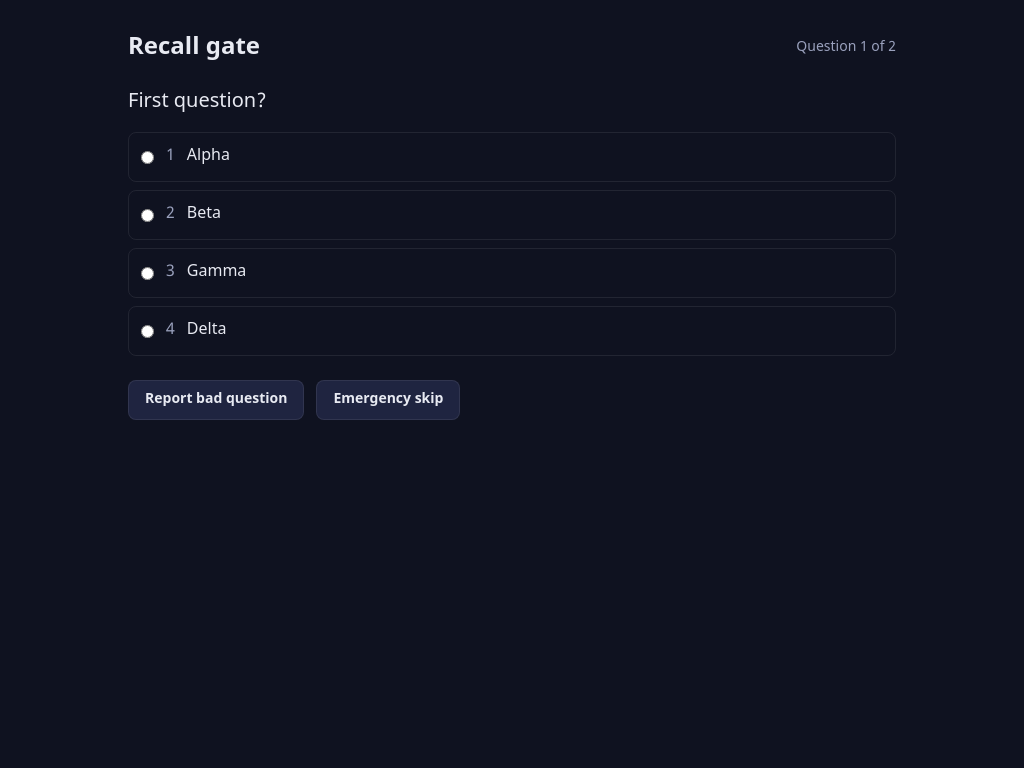
Test: GateView › confidence tags can be clicked and always pair colour with a letter
The width and height of the screenshot is (1024, 768).
Expected: the text "First question?" is shown, [128, 89, 266, 115]
Click the radio button labelled "2 Beta" at {"x": 148, "y": 215}, box [141, 208, 154, 222]
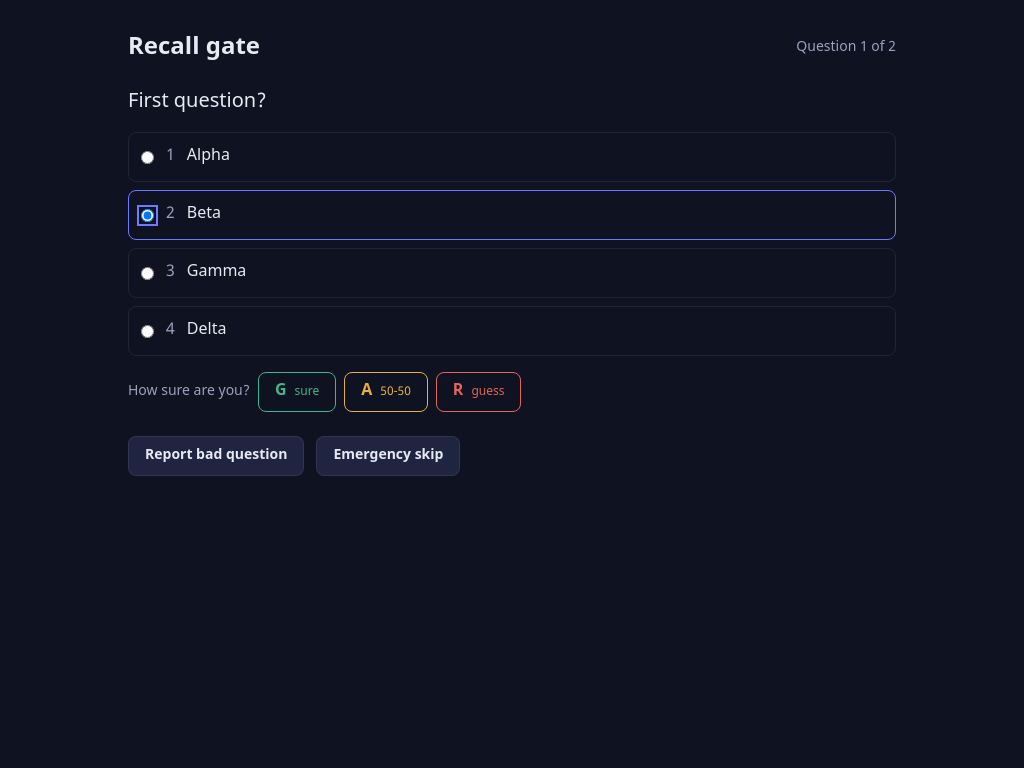
Now the button with aria-label "green" shows "G", box [258, 372, 336, 412]
Now the button named "amber" shows "A"
Now the button with aria-label "red" shows "R", box [436, 372, 521, 412]
Click the button named "amber" at {"x": 386, "y": 392}, box [344, 372, 428, 412]
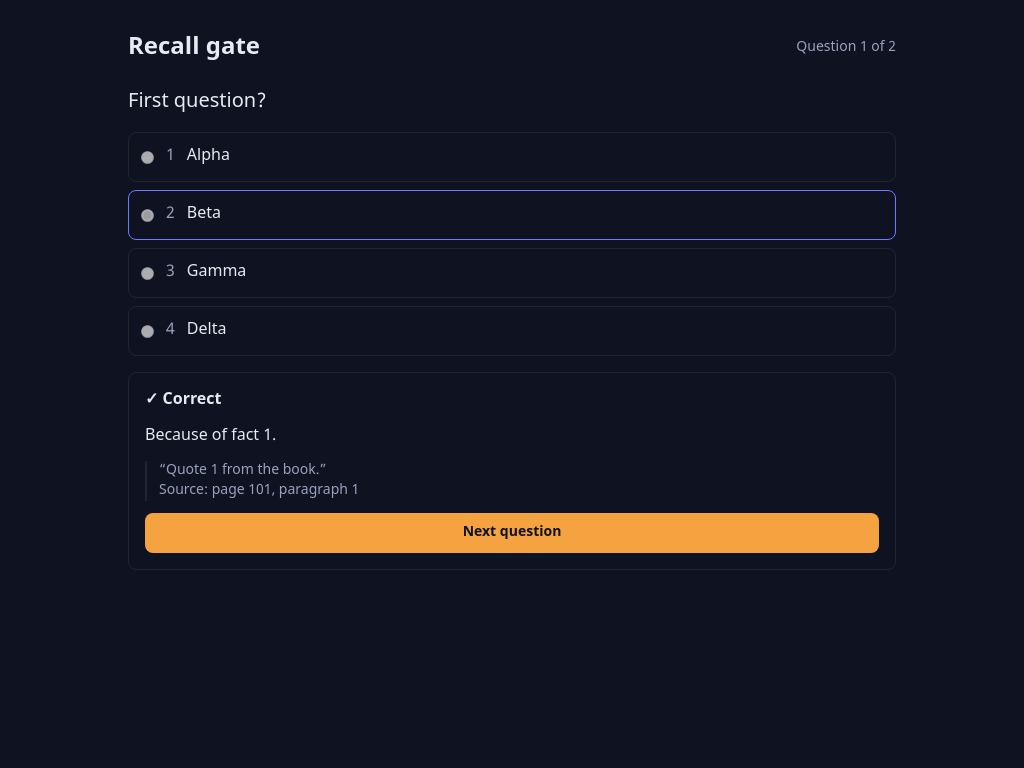
Now the text "✓ Correct" is shown, box [145, 390, 222, 411]
